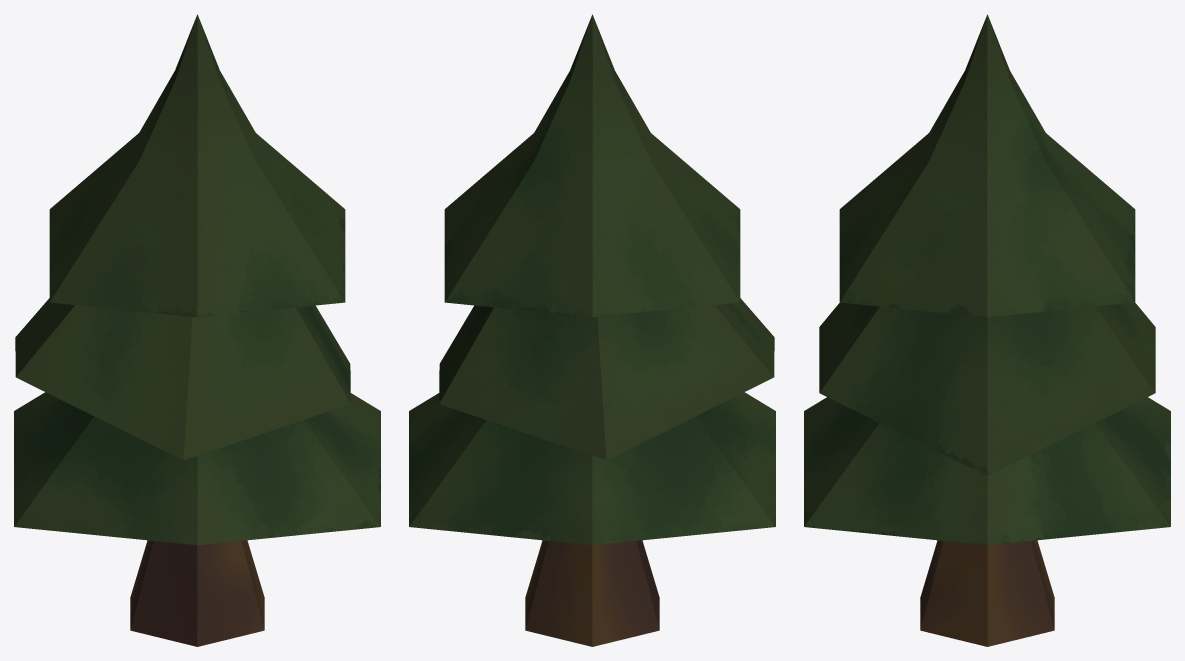
The model's file is TerrainTree.fbx.
The picture shows the model from 3 angles, left to right: view 1: azimuth 30°, elevation 25°; view 2: azimuth 150°, elevation 25°; view 3: azimuth 270°, elevation 25°; orthographic projection.
Parts seen in each view (by area): view 1: SM_tree; view 2: SM_tree; view 3: SM_tree.
Boxes of the visible parts, x1,y1,x2,y2 form: SM_tree: (14,14,380,646); SM_tree: (409,14,775,646); SM_tree: (804,14,1170,646).
Bounding box in the file's own units: 196 × 170 × 306.
Materials: 1 (1 with a texture image).
